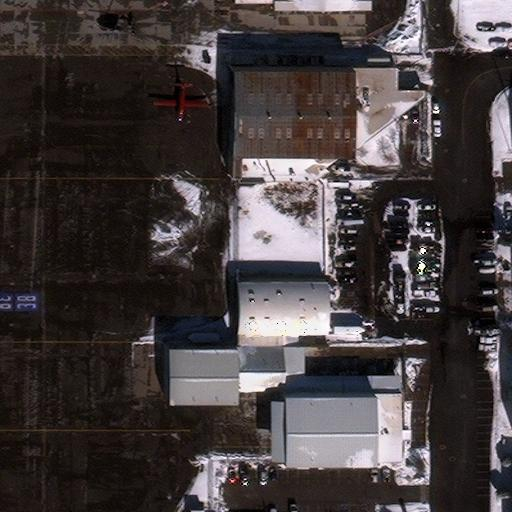Small Civil Transport: (153, 82, 208, 116)
